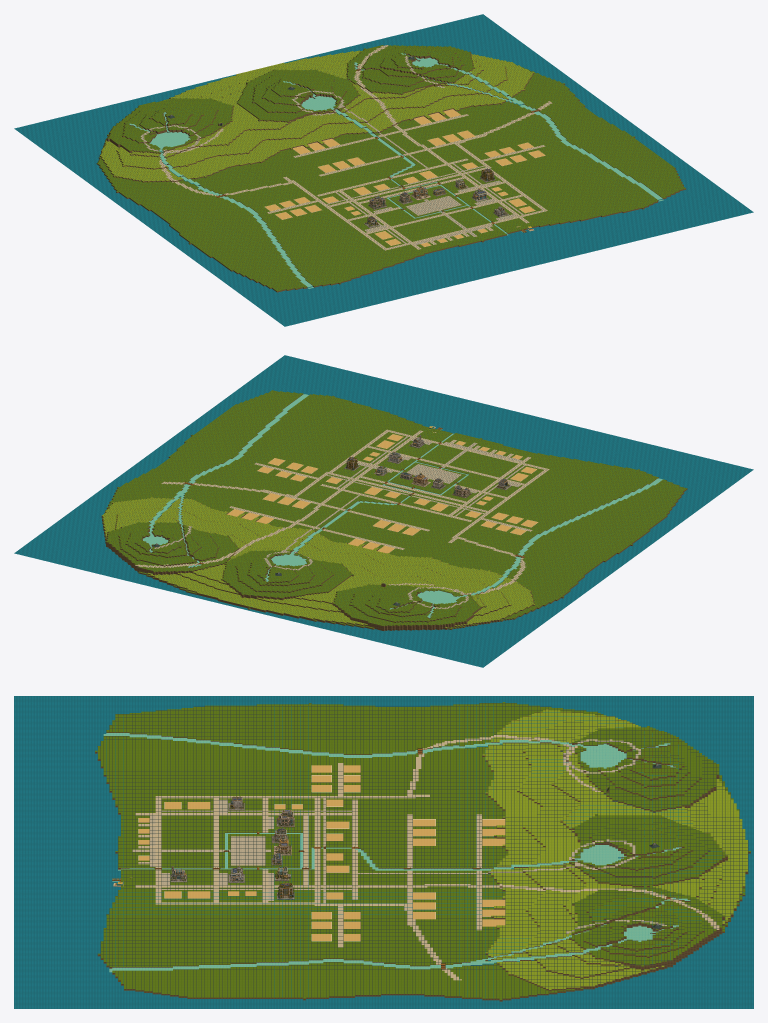
File: world.gltf
3 views of the same model, one above another, from view 1: azimuth 30°, elevation 25°; view 2: azimuth 150°, elevation 25°; view 3: azimuth 270°, elevation 25° (orthographic). The views are drawn at different scales.
Parts seen in each view (by area): view 1: MM_HRW_EMPTY_PLOTS_42, MM_TERRAIN_CH_12_12_V1_LOD0, MM_TERRAIN_CH_3_13_V1_LOD0, MM_TERRAIN_CH_7_12_V1_LOD0, MM_TERRAIN_CH_11_12_V1_LOD0, MM_TERRAIN_CH_2_12_V1_LOD0, MM_TERRAIN_CH_10_12_V1_LOD0, MM_TERRAIN_CH_4_11_V1_LOD0, MM_TERRAIN_CH_8_13_V1_LOD0, MM_TERRAIN_CH_4_12_V1_LOD0, MM_TERRAIN_CH_8_12_V1_LOD0, MM_TERRAIN_CH_9_12_V1_LOD0 (+57 smaller); view 2: MM_HRW_EMPTY_PLOTS_42, MM_TERRAIN_CH_2_14_V1_LOD0, MM_TERRAIN_CH_3_14_V1_LOD0, MM_TERRAIN_CH_4_15_V1_LOD0, MM_TERRAIN_CH_8_15_V1_LOD0, MM_TERRAIN_CH_7_15_V1_LOD0, MM_TERRAIN_CH_11_15_V1_LOD0, MM_TERRAIN_CH_1_13_V1_LOD0, MM_TERRAIN_CH_12_14_V1_LOD0, MM_TERRAIN_CH_7_14_V1_LOD0, MM_TERRAIN_CH_9_15_V1_LOD0, MM_TERRAIN_CH_6_15_V1_LOD0 (+29 smaller); view 3: MM_HRW_EMPTY_PLOTS_42, MM_TERRAIN_CH_13_14_V1_LOD0, MM_TERRAIN_CH_14_13_V1_LOD0, MM_TERRAIN_CH_5_13_V1_LOD0, MM_TERRAIN_CH_14_12_V1_LOD0, MM_TERRAIN_CH_13_13_V1_LOD0, MM_TERRAIN_CH_9_13_V1_LOD0, MM_TERRAIN_CH_5_14_V1_LOD0, MM_TERRAIN_CH_13_12_V1_LOD0, MM_TERRAIN_CH_12_14_V1_LOD0, MM_TERRAIN_CH_12_15_V1_LOD0, MM_TERRAIN_CH_9_14_V1_LOD0 (+245 smaller).
Part boxes in pixels (x1,y1,x2,y2): MM_HRW_EMPTY_PLOTS_42: (264,109,545,246); MM_TERRAIN_CH_12_12_V1_LOD0: (416,66,462,89); MM_TERRAIN_CH_3_13_V1_LOD0: (136,117,181,139); MM_TERRAIN_CH_7_12_V1_LOD0: (270,101,315,124); MM_TERRAIN_CH_11_12_V1_LOD0: (387,74,432,95); MM_TERRAIN_CH_2_12_V1_LOD0: (123,139,168,160); MM_TERRAIN_CH_10_12_V1_LOD0: (358,81,403,103); MM_TERRAIN_CH_4_11_V1_LOD0: (199,138,244,159); MM_TERRAIN_CH_8_13_V1_LOD0: (283,82,328,102); MM_TERRAIN_CH_4_12_V1_LOD0: (182,125,227,145); MM_TERRAIN_CH_8_12_V1_LOD0: (300,97,345,117); MM_TERRAIN_CH_9_12_V1_LOD0: (328,90,374,110); MM_HRW_EMPTY_PLOTS_42: (227,434,538,553); MM_TERRAIN_CH_2_14_V1_LOD0: (412,615,457,640); MM_TERRAIN_CH_3_14_V1_LOD0: (383,606,428,633); MM_TERRAIN_CH_4_15_V1_LOD0: (337,615,381,638); MM_TERRAIN_CH_8_15_V1_LOD0: (219,586,264,610); MM_TERRAIN_CH_7_15_V1_LOD0: (249,593,294,617); MM_TERRAIN_CH_11_15_V1_LOD0: (132,564,176,588); MM_TERRAIN_CH_1_13_V1_LOD0: (458,613,504,635); MM_TERRAIN_CH_12_14_V1_LOD0: (119,542,164,566); MM_TERRAIN_CH_7_14_V1_LOD0: (266,578,311,602); MM_TERRAIN_CH_9_15_V1_LOD0: (190,581,235,603); MM_TERRAIN_CH_6_15_V1_LOD0: (278,602,323,624); MM_HRW_EMPTY_PLOTS_42: (138,765,505,941); MM_TERRAIN_CH_13_14_V1_LOD0: (661,941,707,969); MM_TERRAIN_CH_14_13_V1_LOD0: (615,963,661,989); MM_TERRAIN_CH_5_13_V1_LOD0: (615,784,661,812); MM_TERRAIN_CH_14_12_V1_LOD0: (569,965,615,989); MM_TERRAIN_CH_13_13_V1_LOD0: (615,940,661,969); MM_TERRAIN_CH_9_13_V1_LOD0: (615,862,661,891); MM_TERRAIN_CH_5_14_V1_LOD0: (661,785,707,812); MM_TERRAIN_CH_13_12_V1_LOD0: (569,941,615,965); MM_TERRAIN_CH_12_14_V1_LOD0: (661,920,707,950); MM_TERRAIN_CH_12_15_V1_LOD0: (707,924,753,950); MM_TERRAIN_CH_9_14_V1_LOD0: (661,862,707,891).
Size of the model in its own units: 512 by 12.48 by 512.
Materials: 31 (25 with a texture image).
